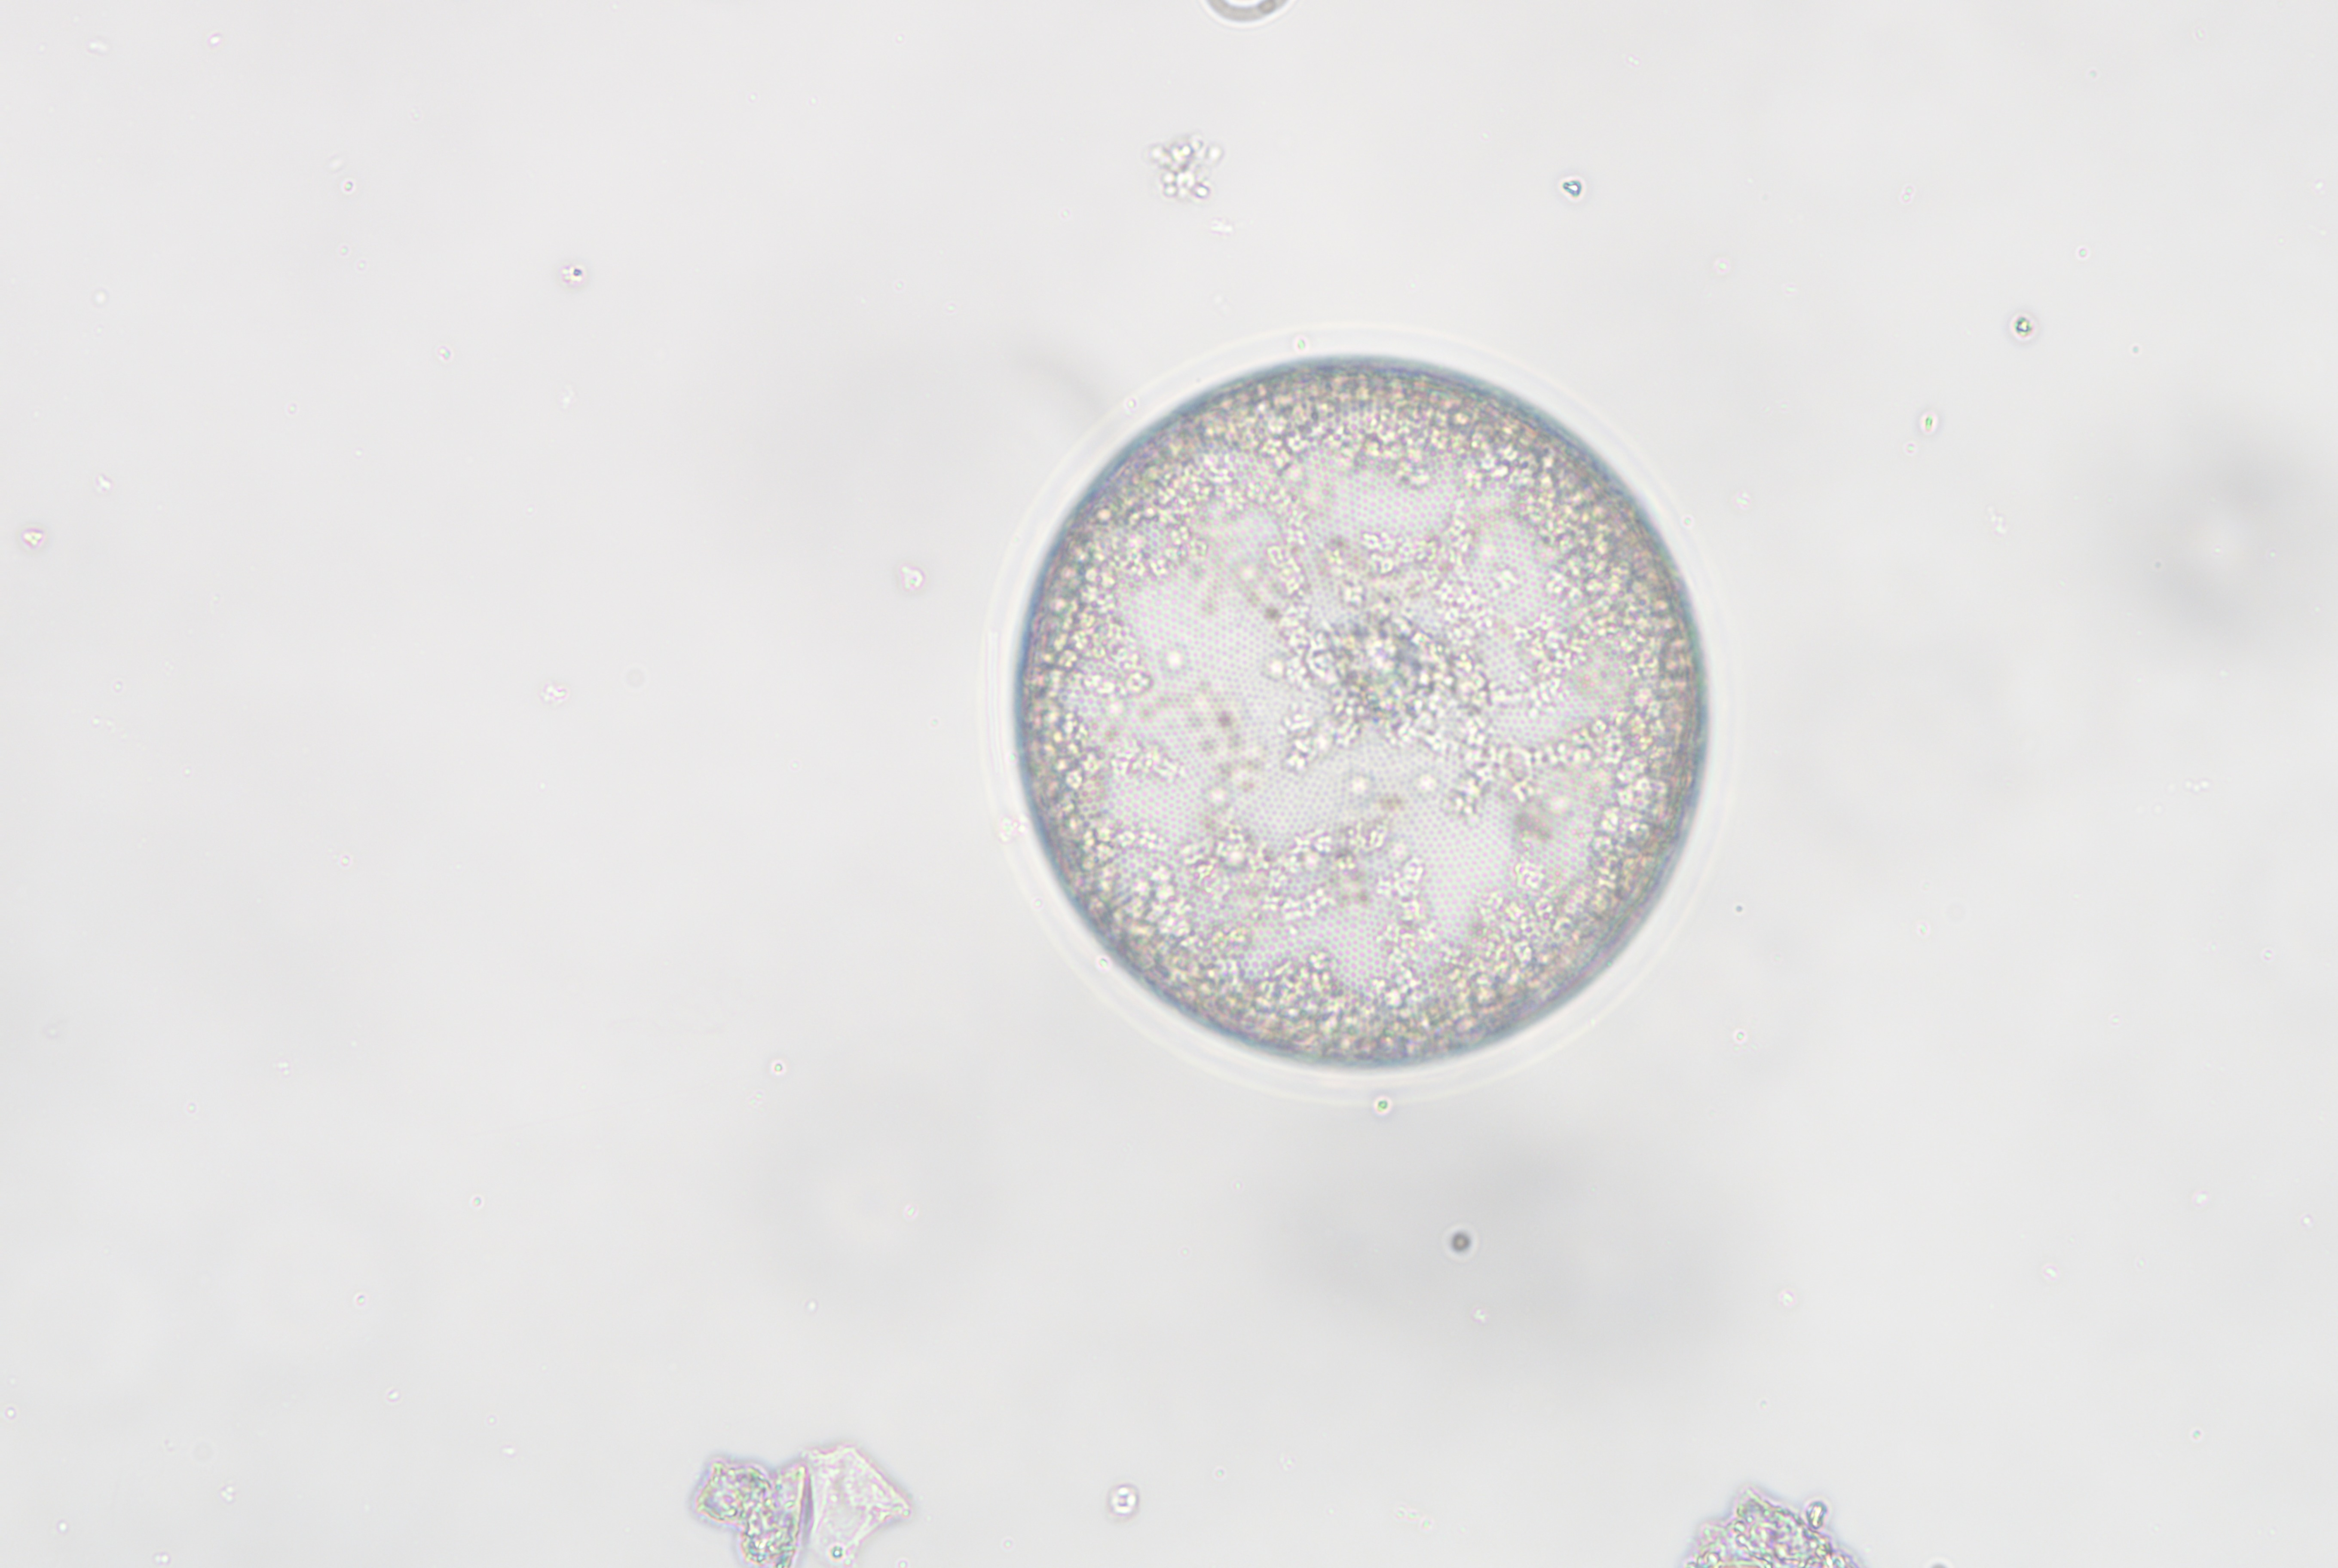coscinodiscus: (1005, 343, 1722, 1081)
